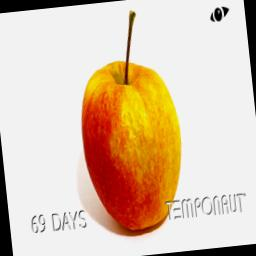Apple Ripe: (68, 0, 191, 236)
